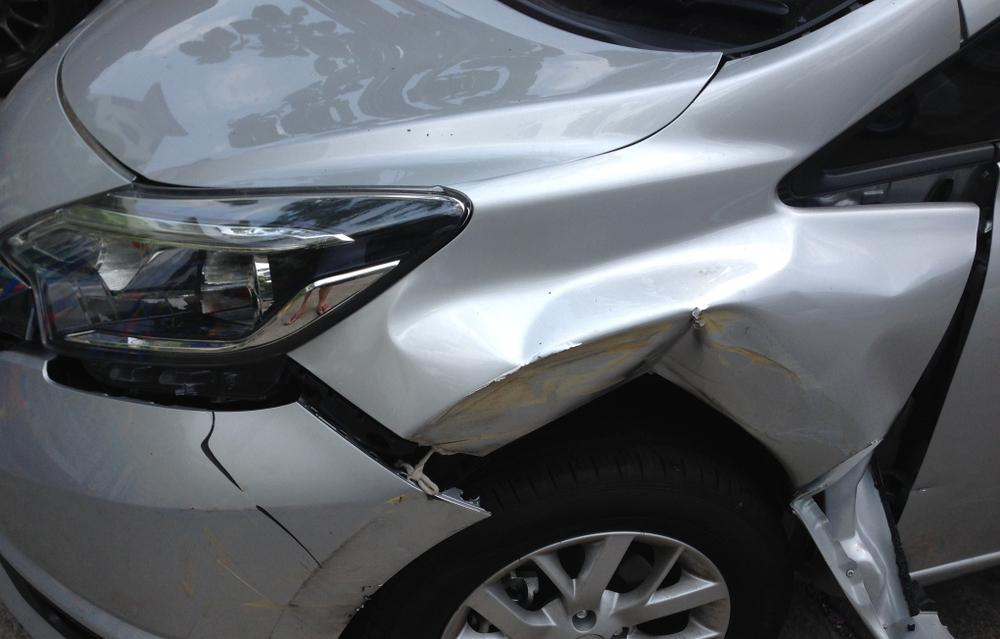dent: (390, 198, 974, 442)
scratch: (186, 410, 370, 627), (413, 316, 667, 453)
